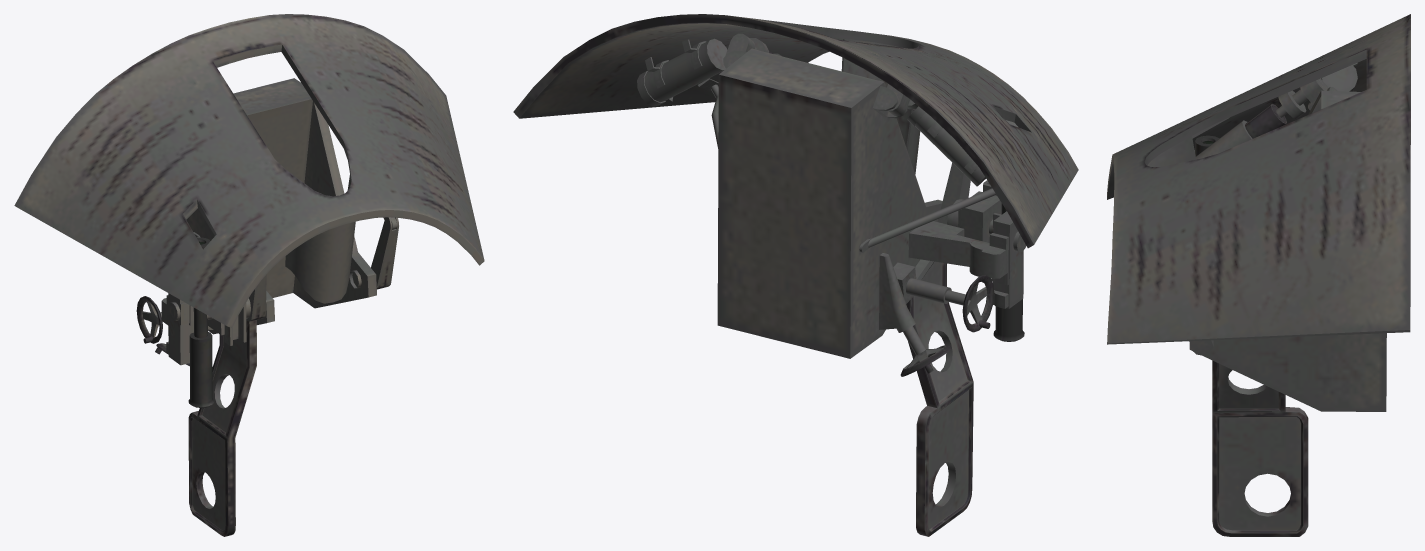
Rendered from Turret_01.glb.
3 views of the same model, side by side, from view 1: azimuth 30°, elevation 25°; view 2: azimuth 150°, elevation 25°; view 3: azimuth 270°, elevation 25° (orthographic). The views are drawn at different scales.
Visible parts, largest first — view 1: set_0_group_0; view 2: set_0_group_0; view 3: set_0_group_0.
Part boxes in pixels (x1,y1,x2,y2): set_0_group_0: (14, 14, 484, 536); set_0_group_0: (513, 14, 1078, 536); set_0_group_0: (1107, 14, 1410, 536).
Bounding box in the file's own units: 1.55 × 1.51 × 0.7785.
Materials: 1 (1 with a texture image).
